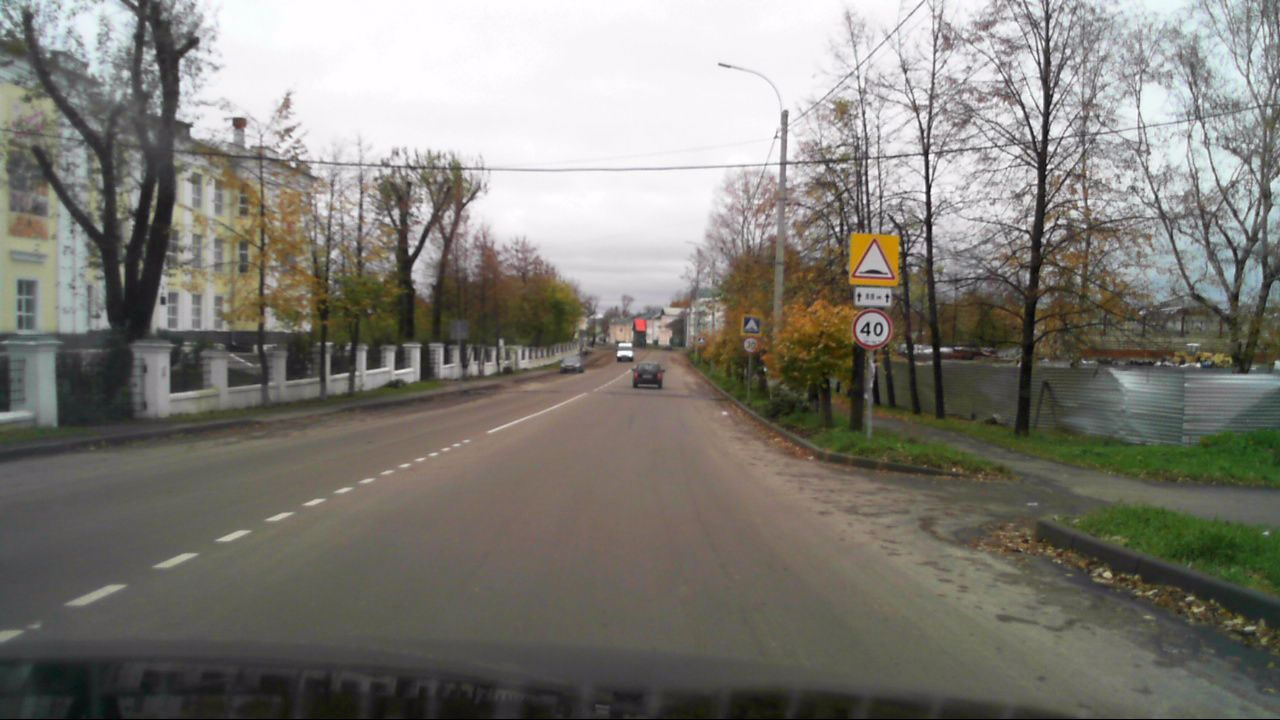speed_warning_40: (853, 310, 893, 349)
